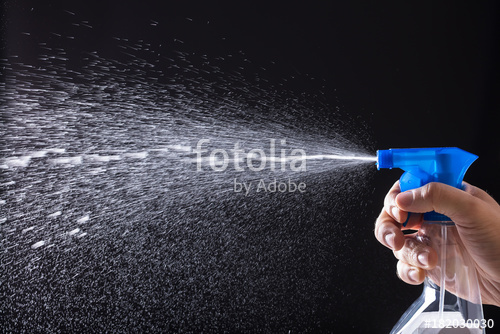finger: (394, 239, 441, 269), (379, 182, 412, 223), (367, 222, 408, 250), (393, 264, 426, 286)
